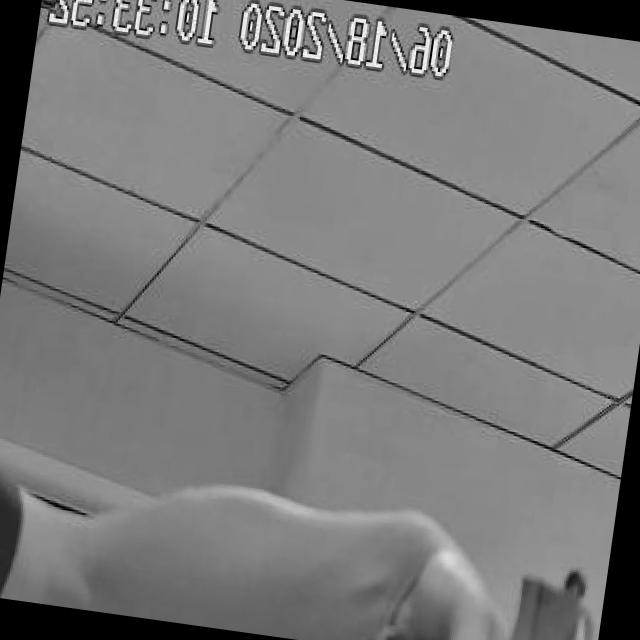Guns: (350, 481, 615, 640)
